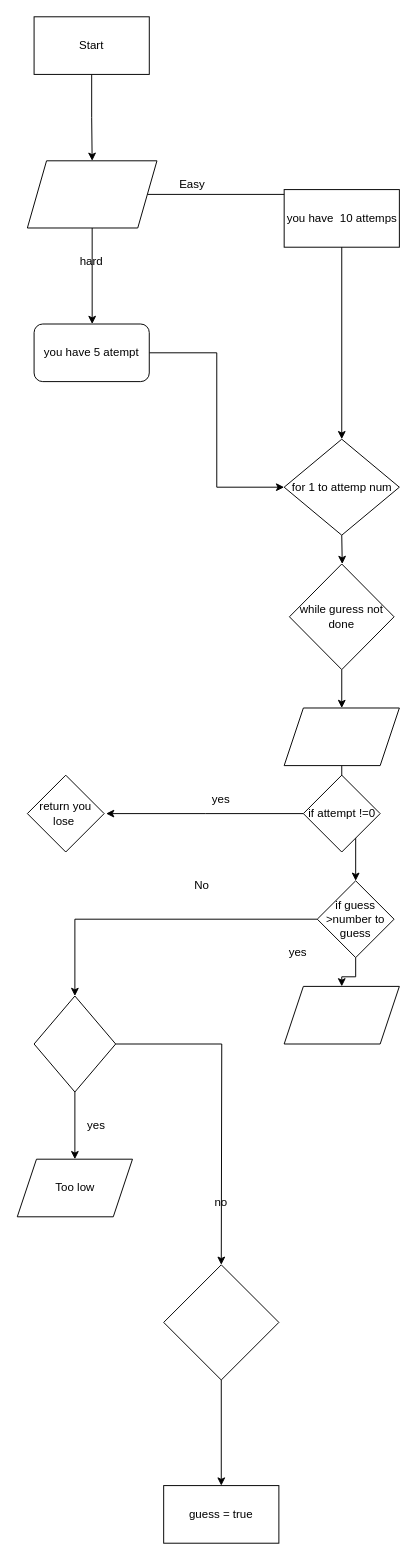
Image size: 416x1560. Some labels were removed from this diagram. The shapes that lost their labels are listed below. From the top down, each one's box as (x1, y1, x2, y2) in pixels, then its label:
(26, 160, 157, 228): choose easy or hard
(283, 707, 399, 766): input("guess")
(283, 985, 399, 1044): too high
(33, 995, 116, 1092): if guess < number to guess
(163, 1264, 279, 1380): if guess == num to guess
